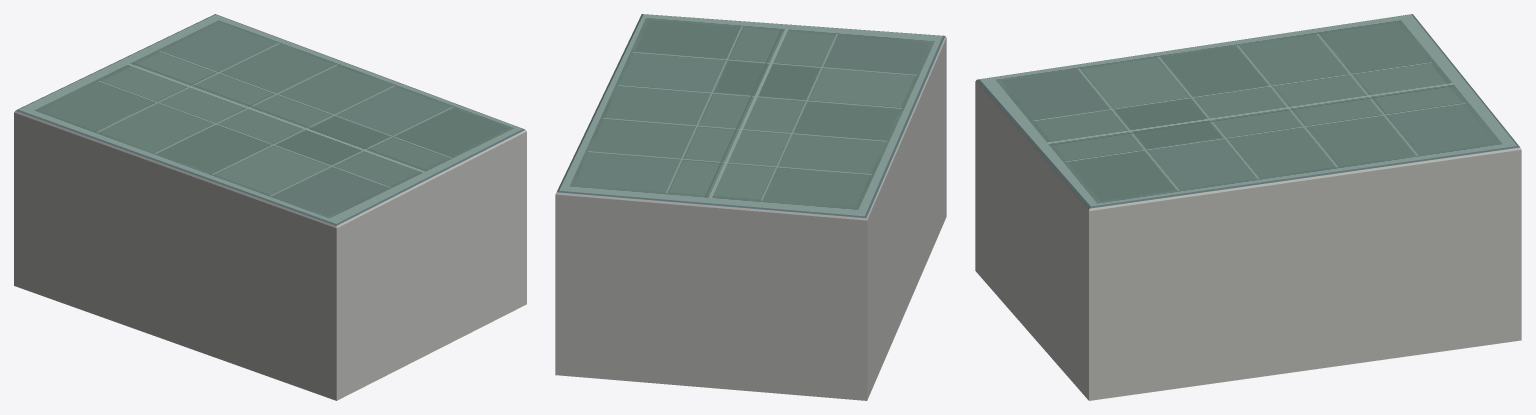
Rendered from fragments.glb.
3 views of the same model, side by side, from view 1: azimuth 30°, elevation 25°; view 2: azimuth 150°, elevation 25°; view 3: azimuth 270°, elevation 25° (orthographic). The views are drawn at different scales.
Visible parts, largest first — view 1: SM_gh43_Fragment_011, SM_gh43_Fragment_030, SM_gh43_Fragment_038, SM_gh43_Fragment_036, SM_gh43_Fragment_018, SM_gh43_Fragment_032, SM_gh43_Fragment_014, SM_gh43_Fragment_033, SM_gh43_Fragment_023, SM_gh43_Fragment_005, SM_gh43_Fragment_037, SM_gh43_Fragment_002 (+24 smaller); view 2: SM_gh43_Fragment_026, SM_gh43_Fragment_001, SM_gh43_Fragment_006, SM_gh43_Fragment_003, SM_gh43_Fragment_043, SM_gh43_Fragment_030, SM_gh43_Fragment_022, SM_gh43_Fragment_040, SM_gh43_Fragment_018, SM_gh43_Fragment_034, SM_gh43_Fragment_005, SM_gh43_Fragment_021 (+22 smaller); view 3: SM_gh43_Fragment_015, SM_gh43_Fragment_004, SM_gh43_Fragment_009, SM_gh43_Fragment_053, SM_gh43_Fragment_007, SM_gh43_Fragment_057, SM_gh43_Fragment_013, SM_gh43_Fragment_051, SM_gh43_Fragment_019, SM_gh43_Fragment_042, SM_gh43_Fragment_036, SM_gh43_Fragment_005 (+25 smaller).
Part boxes in pixels (left/top/right/bottom): SM_gh43_Fragment_011: left=254, top=274, right=365, bottom=400; SM_gh43_Fragment_030: left=14, top=108, right=98, bottom=230; SM_gh43_Fragment_038: left=287, top=198, right=386, bottom=322; SM_gh43_Fragment_036: left=389, top=129, right=495, bottom=233; SM_gh43_Fragment_018: left=91, top=101, right=196, bottom=209; SM_gh43_Fragment_032: left=115, top=196, right=193, bottom=304; SM_gh43_Fragment_014: left=237, top=180, right=357, bottom=274; SM_gh43_Fragment_033: left=192, top=241, right=268, bottom=364; SM_gh43_Fragment_023: left=457, top=213, right=526, bottom=322; SM_gh43_Fragment_005: left=317, top=144, right=428, bottom=222; SM_gh43_Fragment_037: left=346, top=281, right=421, bottom=395; SM_gh43_Fragment_002: left=142, top=131, right=259, bottom=245; SM_gh43_Fragment_026: left=662, top=225, right=813, bottom=343; SM_gh43_Fragment_001: left=555, top=160, right=673, bottom=267; SM_gh43_Fragment_006: left=728, top=169, right=859, bottom=287; SM_gh43_Fragment_003: left=739, top=304, right=872, bottom=400; SM_gh43_Fragment_043: left=555, top=259, right=674, bottom=364; SM_gh43_Fragment_030: left=810, top=174, right=887, bottom=335; SM_gh43_Fragment_022: left=626, top=302, right=743, bottom=390; SM_gh43_Fragment_040: left=642, top=148, right=767, bottom=250; SM_gh43_Fragment_018: left=775, top=137, right=899, bottom=224; SM_gh43_Fragment_034: left=711, top=99, right=818, bottom=150; SM_gh43_Fragment_005: left=751, top=25, right=869, bottom=79; SM_gh43_Fragment_021: left=608, top=101, right=714, bottom=155; SM_gh43_Fragment_015: left=1398, top=177, right=1521, bottom=306; SM_gh43_Fragment_004: left=1267, top=211, right=1401, bottom=311; SM_gh43_Fragment_009: left=1149, top=276, right=1262, bottom=388; SM_gh43_Fragment_053: left=1346, top=129, right=1471, bottom=227; SM_gh43_Fragment_007: left=1062, top=187, right=1142, bottom=316; SM_gh43_Fragment_057: left=1263, top=159, right=1361, bottom=264; SM_gh43_Fragment_013: left=1193, top=138, right=1277, bottom=276; SM_gh43_Fragment_051: left=1114, top=238, right=1232, bottom=331; SM_gh43_Fragment_019: left=1254, top=292, right=1354, bottom=377; SM_gh43_Fragment_042: left=1107, top=174, right=1222, bottom=249; SM_gh43_Fragment_036: left=1029, top=141, right=1132, bottom=246; SM_gh43_Fragment_005: left=1008, top=97, right=1148, bottom=181.
Bounding box in the file's own units: 1.87 × 0.8608 × 2.2.
Materials: 4 (1 with a texture image).
